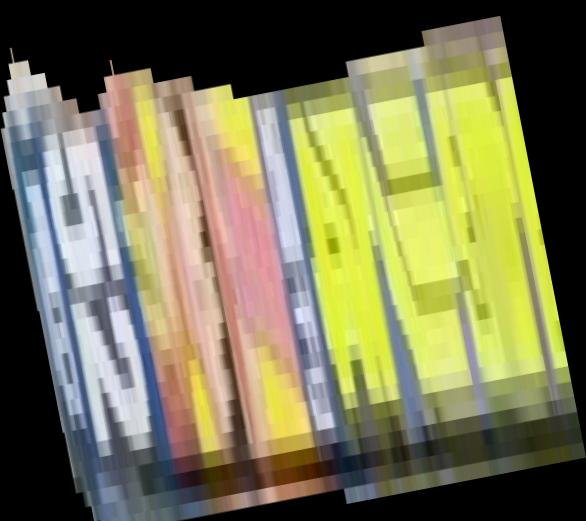flat: (1, 1, 586, 521)
